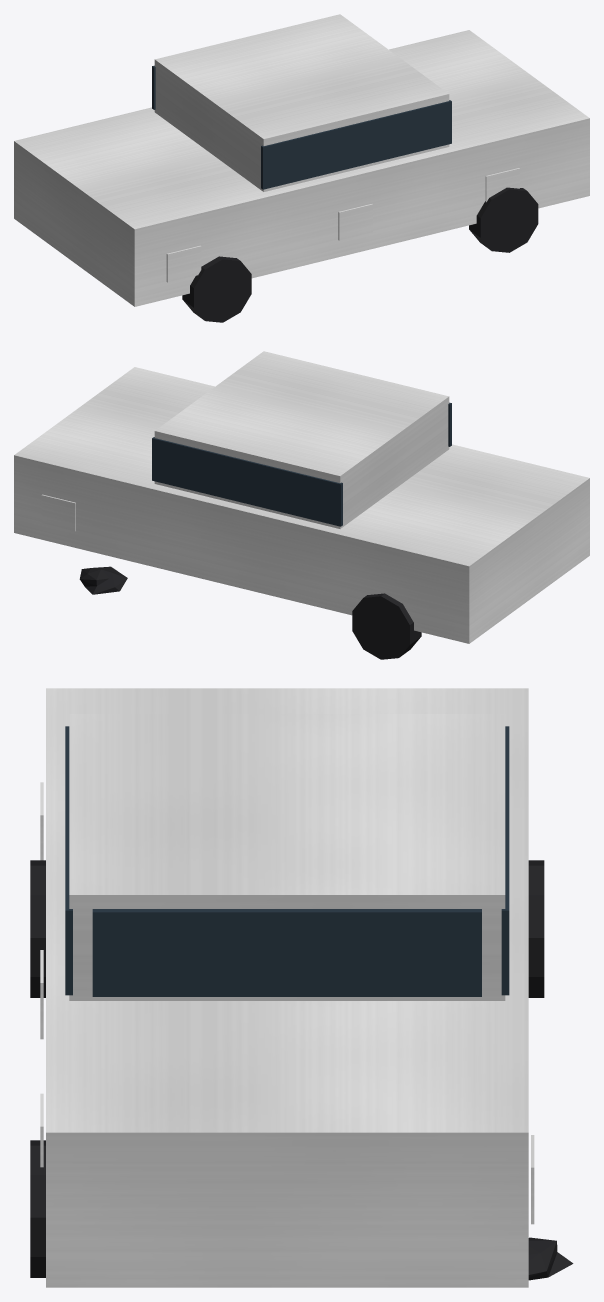
The model's file is wreck_car.obj.
3 views of the same model, one above another, from view 1: azimuth 30°, elevation 25°; view 2: azimuth 150°, elevation 25°; view 3: azimuth 270°, elevation 25° (orthographic). The views are drawn at different scales.
Parts seen in each view (by area): view 1: wreck_car; view 2: wreck_car; view 3: wreck_car.
Boxes of the visible parts, box(x1,y1,x2,y2) form: wreck_car: box(14, 14, 589, 322); wreck_car: box(14, 351, 589, 659); wreck_car: box(30, 688, 573, 1287).
Bounding box in the file's own units: 2.7 × 0.93 × 1.4.
